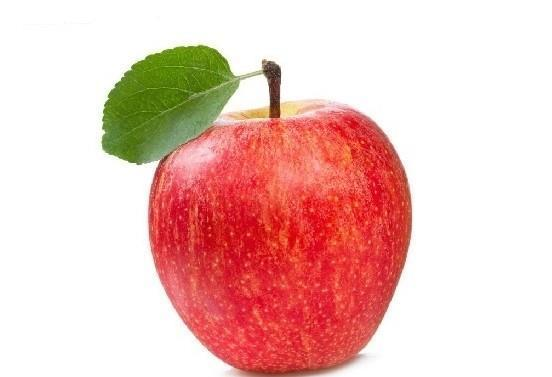apple: (145, 102, 413, 374)
